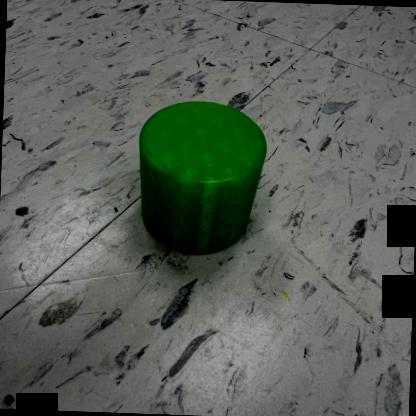green cylinder: (132, 96, 270, 259)
